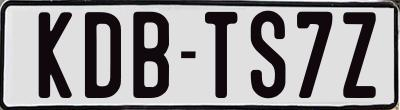7: (297, 12, 338, 103)
B: (130, 12, 170, 100)
D: (85, 10, 122, 97)
K: (38, 9, 74, 101)
S: (249, 8, 290, 98)
T: (202, 12, 238, 101)
Z: (340, 12, 373, 104)
